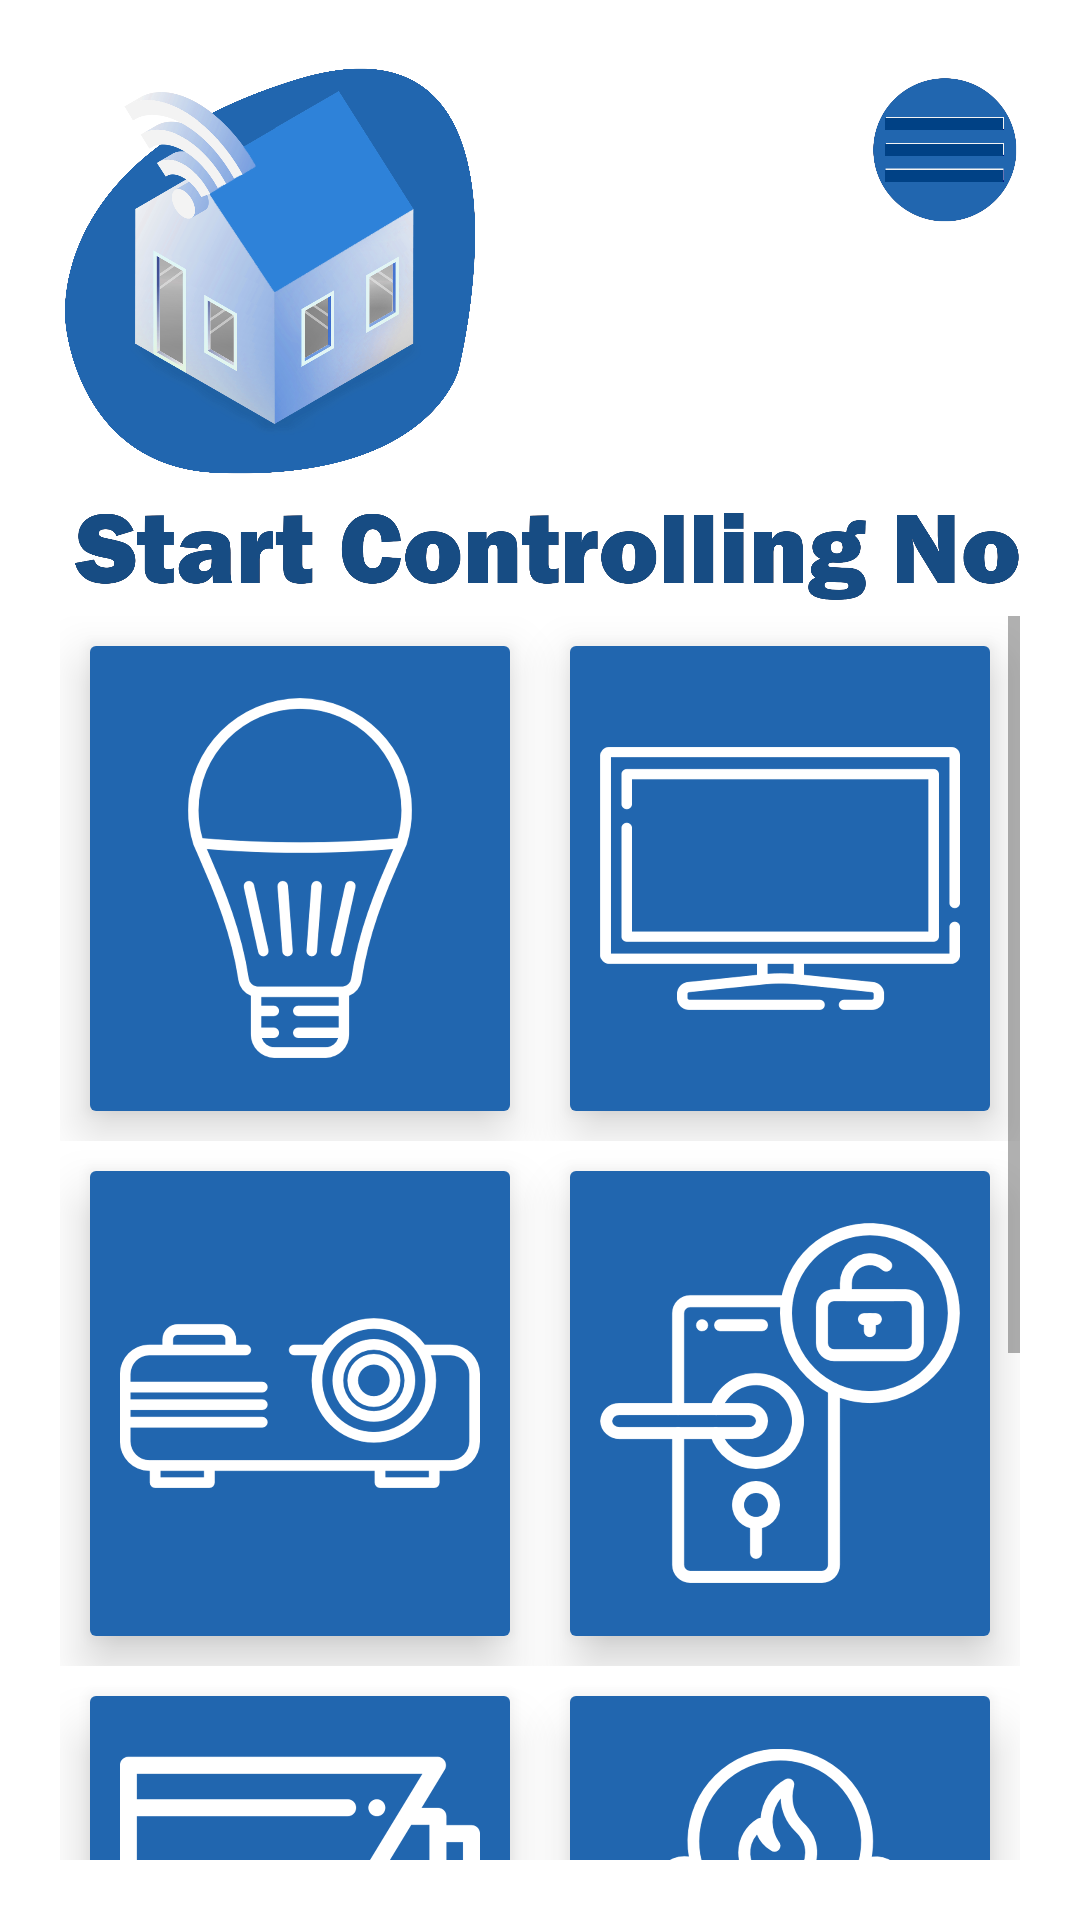

Screen size 1080x1920. Icon name, then its box in pixels as [x1,y1,x2,y2]:
door: [600,1223,960,1583]
lamp: [188,698,412,1058]
menu: [873,78,1016,221]
projector: [120,1318,480,1488]
